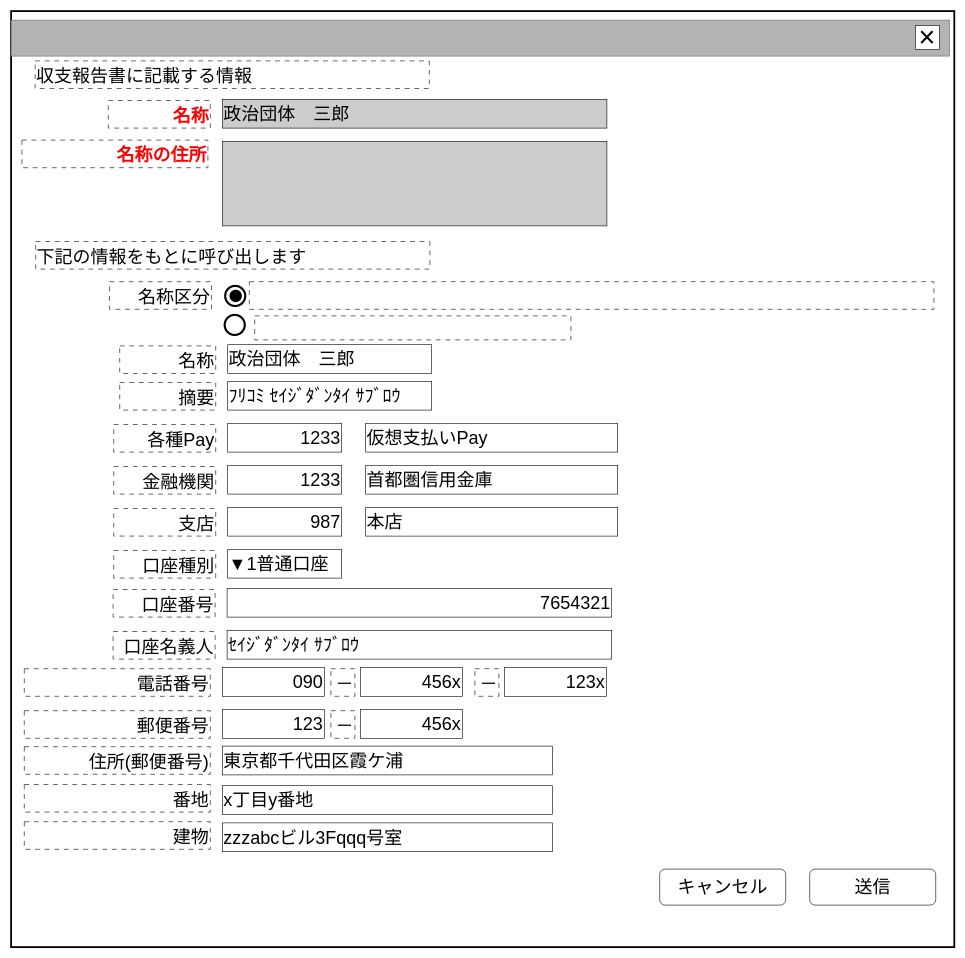
The diagram is 965 pixels wide and 958 high, and some of its shapes have lost their labels. Here are the shapes that lost their labels. From the top down, the centre of each, then its label:
At point 414,183: "東京都千代田区霞ケ浦x丁目y番地 zzzabcビル3Fqqq号室".
At point 591,295: "個人(利用ユーザ：政治家)では共有されません。調査側には見えます)".
At point 412,327: "団体(情報が利用者間で共有されます)".
